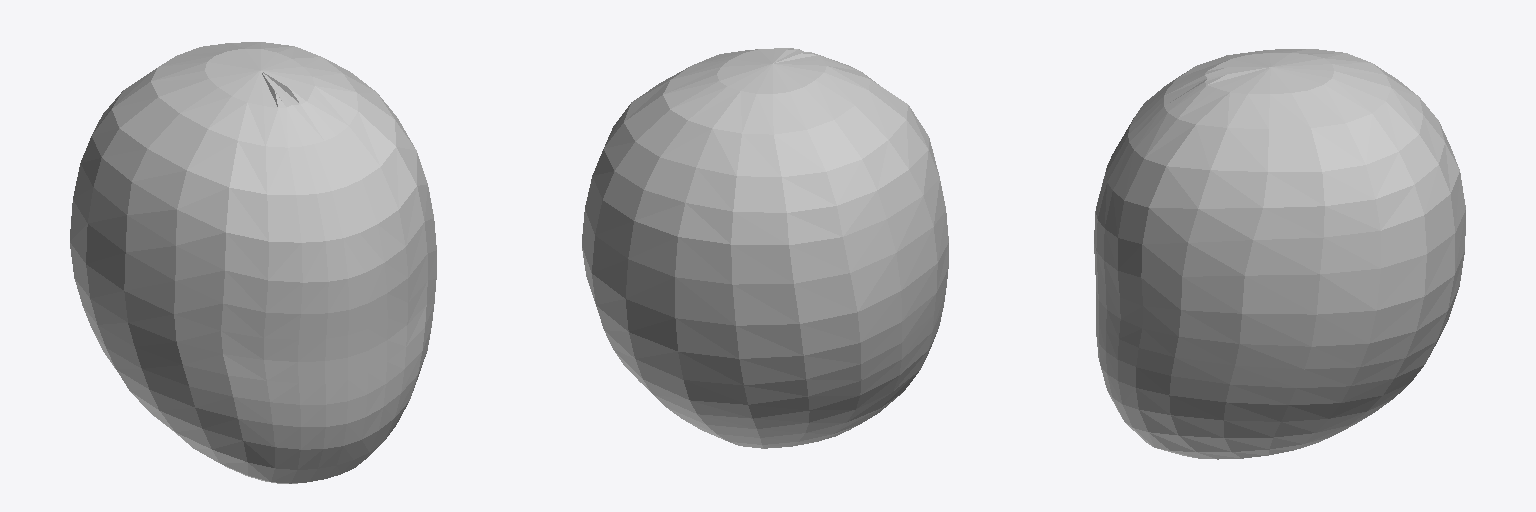
The model's file is Head.obj.
3 renders of one model, left to right at view 1: azimuth 30°, elevation 25°; view 2: azimuth 150°, elevation 25°; view 3: azimuth 270°, elevation 25°, orthographic.
Parts seen in each view (by area): view 1: Group43081; view 2: Group43081; view 3: Group43081.
Boxes of the visible parts, x1=… form: Group43081: x1=70, y1=42, x2=436, y2=483; Group43081: x1=582, y1=48, x2=948, y2=448; Group43081: x1=1094, y1=49, x2=1465, y2=459.
Bounding box in the file's own units: 0.2011 × 0.2393 × 0.2137.